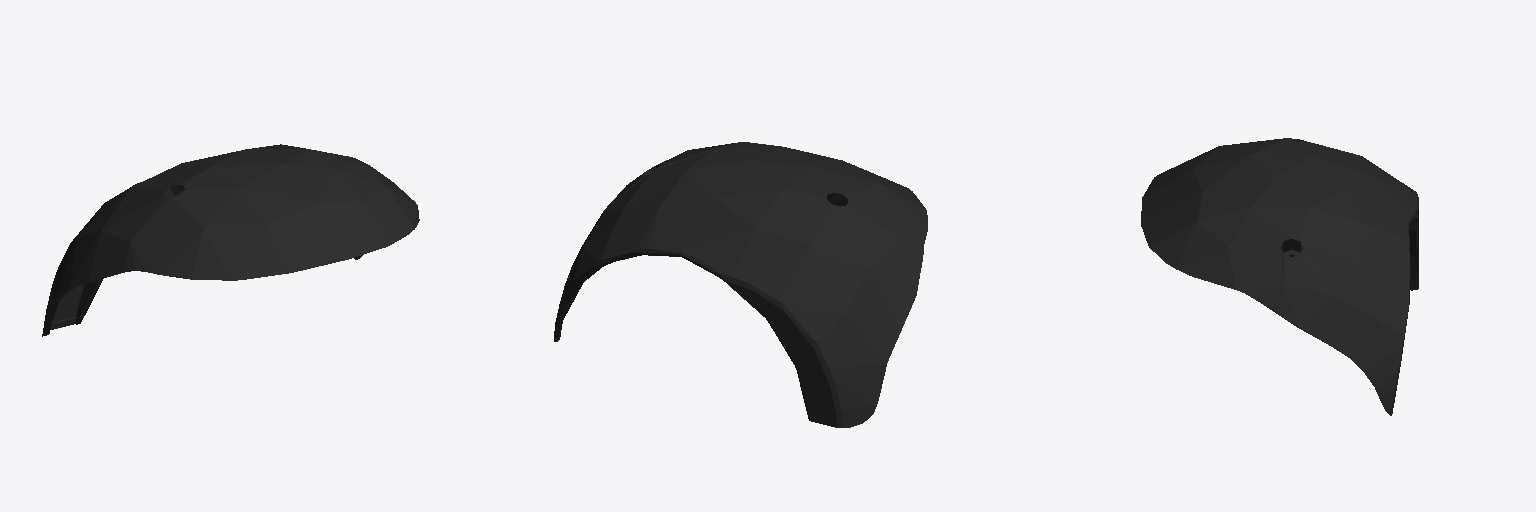
Rendered from asm0001_vrml_20_prt.obj.
3 renders of one model, left to right at view 1: azimuth 30°, elevation 25°; view 2: azimuth 150°, elevation 25°; view 3: azimuth 270°, elevation 25°, orthographic.
Parts seen in each view (by area): view 1: ShapeIndexedFaceSet; view 2: ShapeIndexedFaceSet; view 3: ShapeIndexedFaceSet.
Part boxes in pixels (bbox=[...]): ShapeIndexedFaceSet: bbox=[42, 144, 419, 336]; ShapeIndexedFaceSet: bbox=[554, 142, 927, 427]; ShapeIndexedFaceSet: bbox=[1141, 138, 1418, 415].
Bounding box in the file's own units: 2.79 × 1.45 × 2.08.